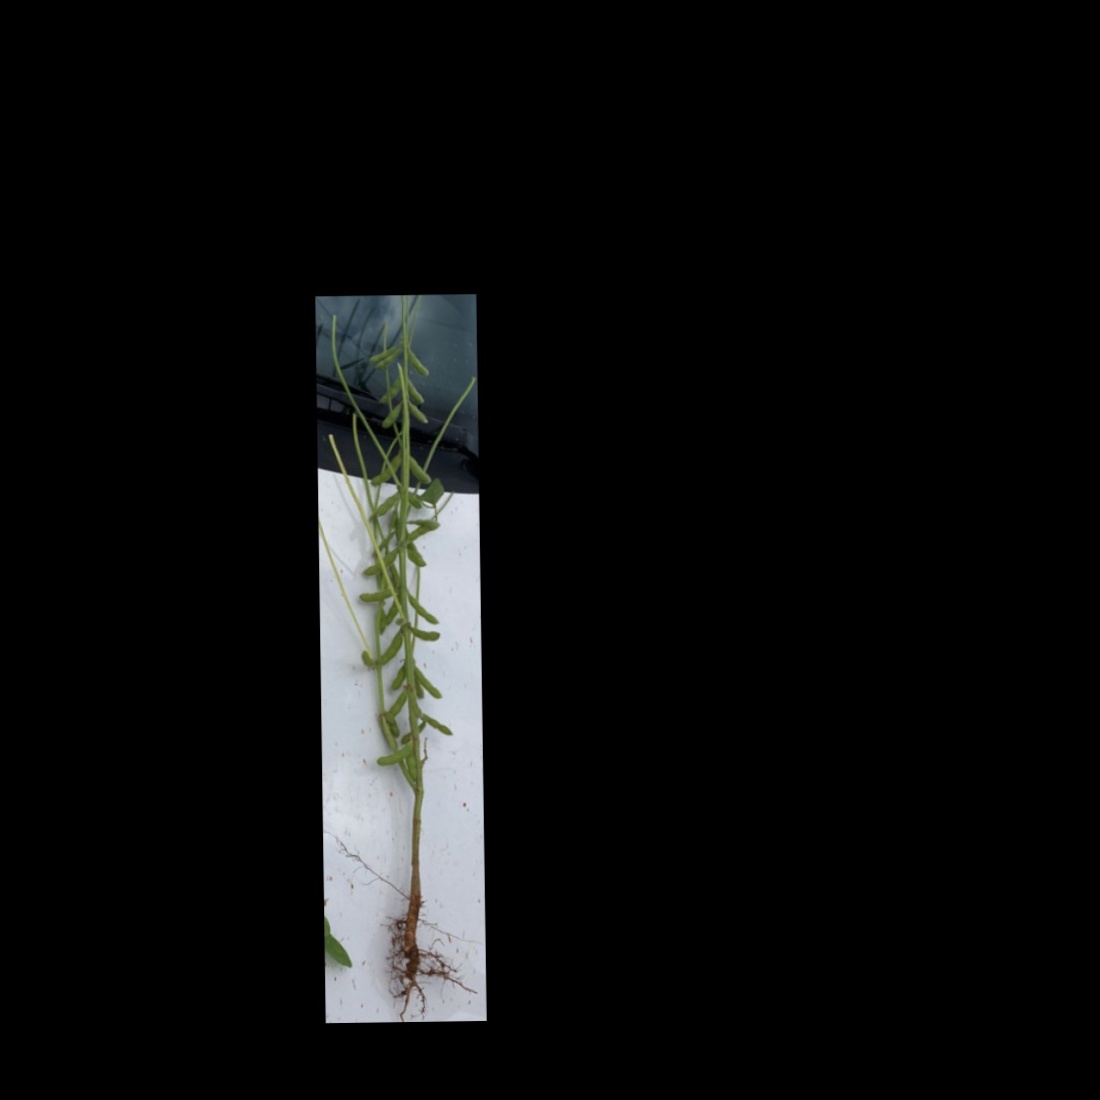pod: (357, 548, 401, 579), (369, 449, 403, 489), (411, 665, 445, 701), (378, 625, 406, 667), (412, 712, 455, 736), (366, 490, 400, 520), (374, 739, 411, 767), (406, 595, 439, 626), (379, 688, 409, 720), (379, 398, 406, 432), (366, 340, 405, 364), (408, 454, 434, 487), (406, 342, 429, 379), (371, 348, 405, 372), (409, 623, 443, 644), (377, 377, 402, 405), (357, 589, 396, 605), (402, 377, 424, 405), (407, 400, 431, 424), (381, 710, 401, 738)
soy: (336, 315, 464, 982)
